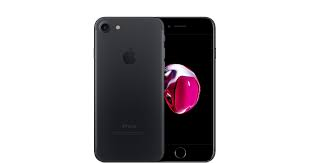iphone: (93, 17, 167, 163)
iphone7: (91, 13, 219, 163)
